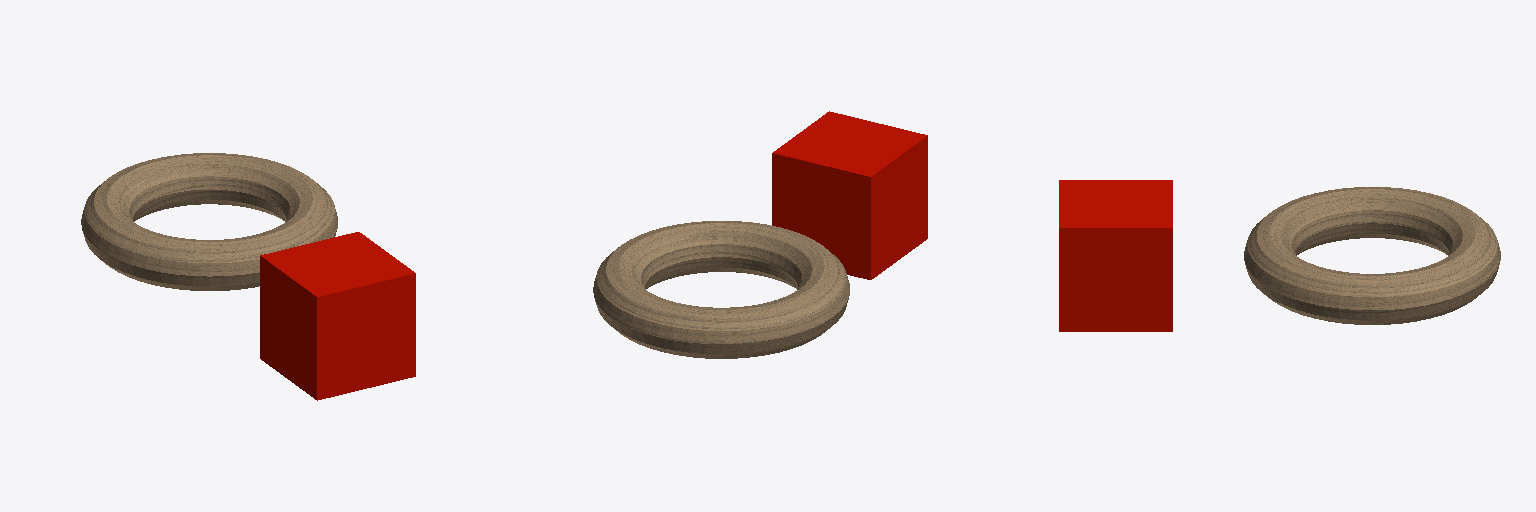
3 renders of one model, left to right at view 1: azimuth 30°, elevation 25°; view 2: azimuth 150°, elevation 25°; view 3: azimuth 270°, elevation 25°, orthographic.
Visible parts, largest first — view 1: Torus, Cube; view 2: Torus, Cube; view 3: Torus, Cube.
Boxes of the visible parts, box(x1,y1,x2,y2) form: Torus: box(81, 153, 337, 290); Cube: box(260, 232, 415, 400); Torus: box(593, 221, 849, 358); Cube: box(772, 111, 927, 279); Torus: box(1244, 187, 1500, 324); Cube: box(1059, 180, 1172, 331).
Size of the model in its own units: 2.5 by 1.11 by 4.3.
Materials: 2 (1 with a texture image).